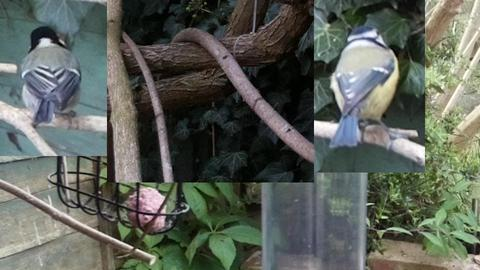blue tit: (328, 25, 400, 148)
great tit: (18, 25, 82, 131)
